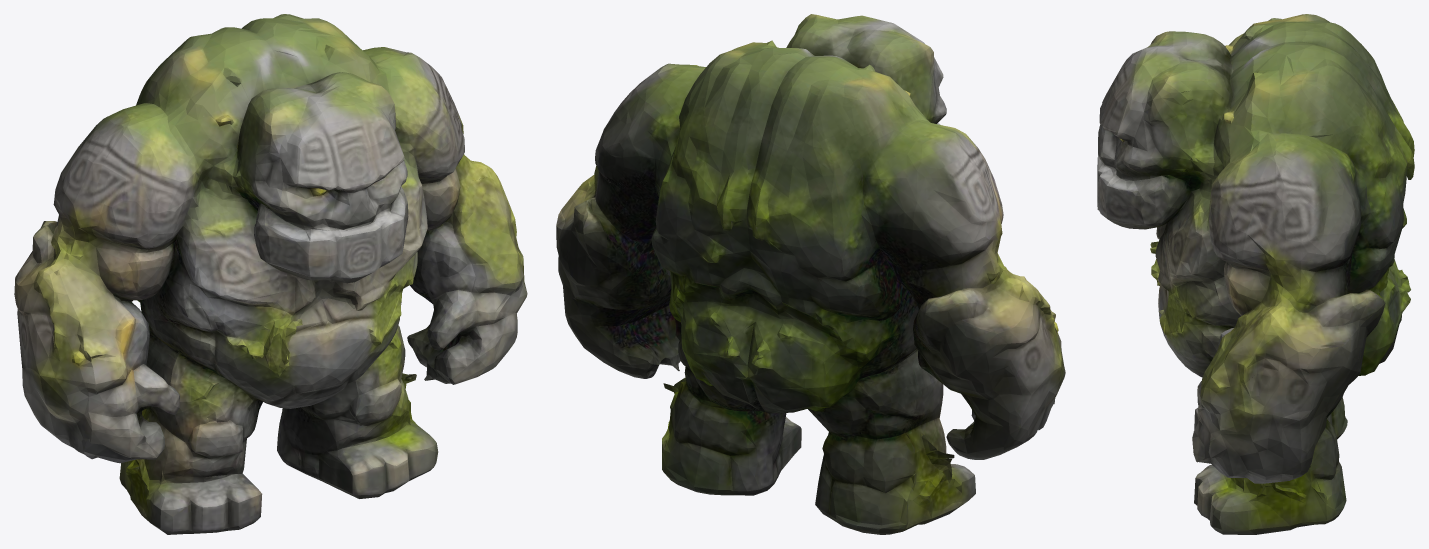
Rendered from mossGolem.glb.
The picture shows the model from 3 angles, left to right: view 1: azimuth 30°, elevation 25°; view 2: azimuth 150°, elevation 25°; view 3: azimuth 270°, elevation 25°; orthographic projection. The views are drawn at different scales.
Visible parts, largest first — view 1: world; view 2: world; view 3: world.
Part boxes in pixels (bbox=[...]): world: bbox=[14, 14, 527, 534]; world: bbox=[556, 14, 1065, 534]; world: bbox=[1097, 14, 1414, 534].
Size of the model in its own units: 0.9942 by 0.8774 by 0.5833.
Materials: 1 (1 with a texture image).
